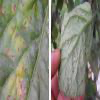Tomato Septoria leaf spot: (0, 3, 47, 95), (55, 3, 95, 98)
